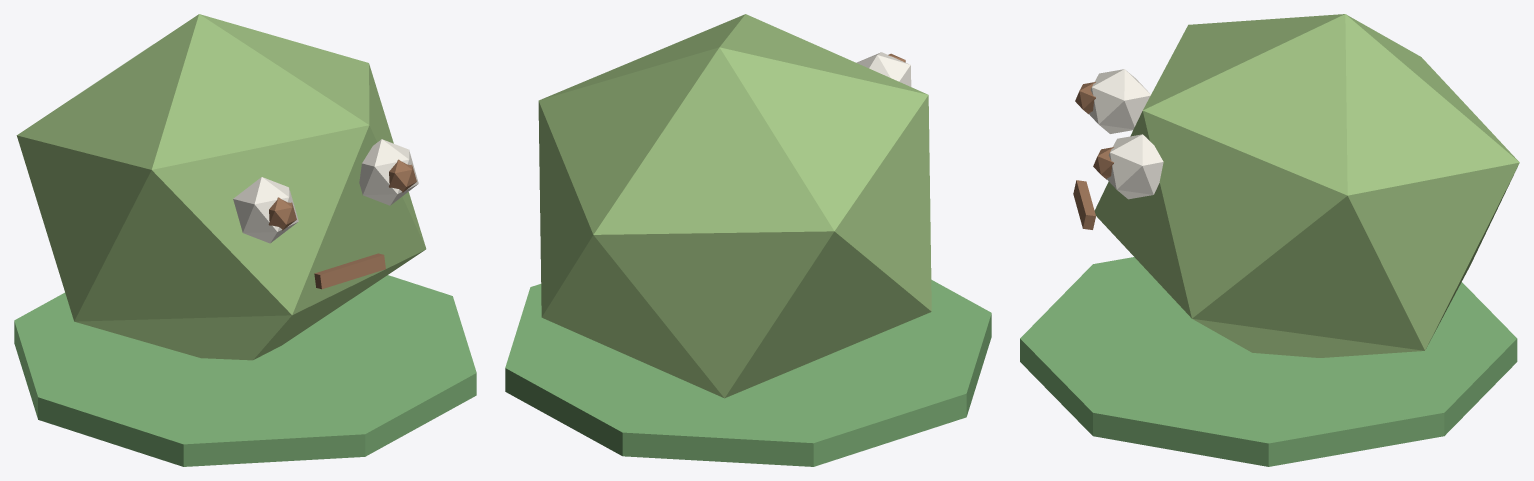
Rendered from npcpose_slime_attack_03.glb.
3 renders of one model, left to right at view 1: azimuth 30°, elevation 25°; view 2: azimuth 150°, elevation 25°; view 3: azimuth 270°, elevation 25°, orthographic. The views are drawn at different scales.
Parts seen in each view (by area): view 1: npcpose; view 2: npcpose; view 3: npcpose.
Boxes of the visible parts, x1,y1,x2,y2 form: npcpose: (14, 14, 476, 466); npcpose: (505, 14, 991, 466); npcpose: (1020, 14, 1519, 466).
Size of the model in its own units: 0.96 by 0.7327 by 0.965.
